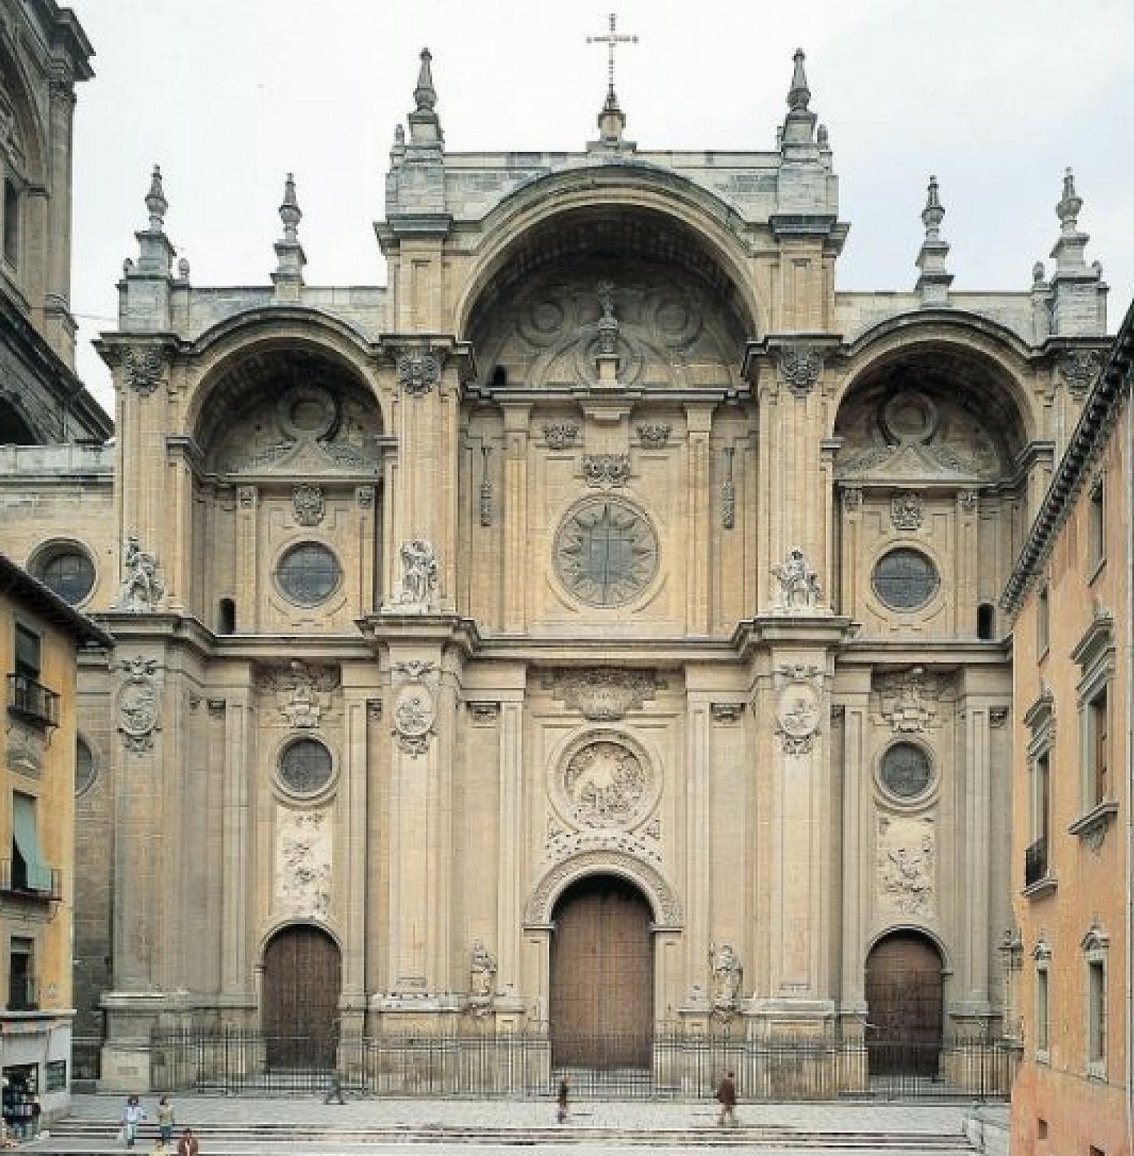arco-medio-punto: (447, 192, 775, 411), (814, 334, 1051, 476), (170, 332, 395, 469), (539, 864, 667, 953), (861, 922, 952, 989), (253, 916, 347, 979)
ojo-de-buey: (861, 534, 947, 616), (263, 726, 343, 807), (267, 535, 348, 610), (24, 530, 97, 608), (868, 734, 941, 805)
